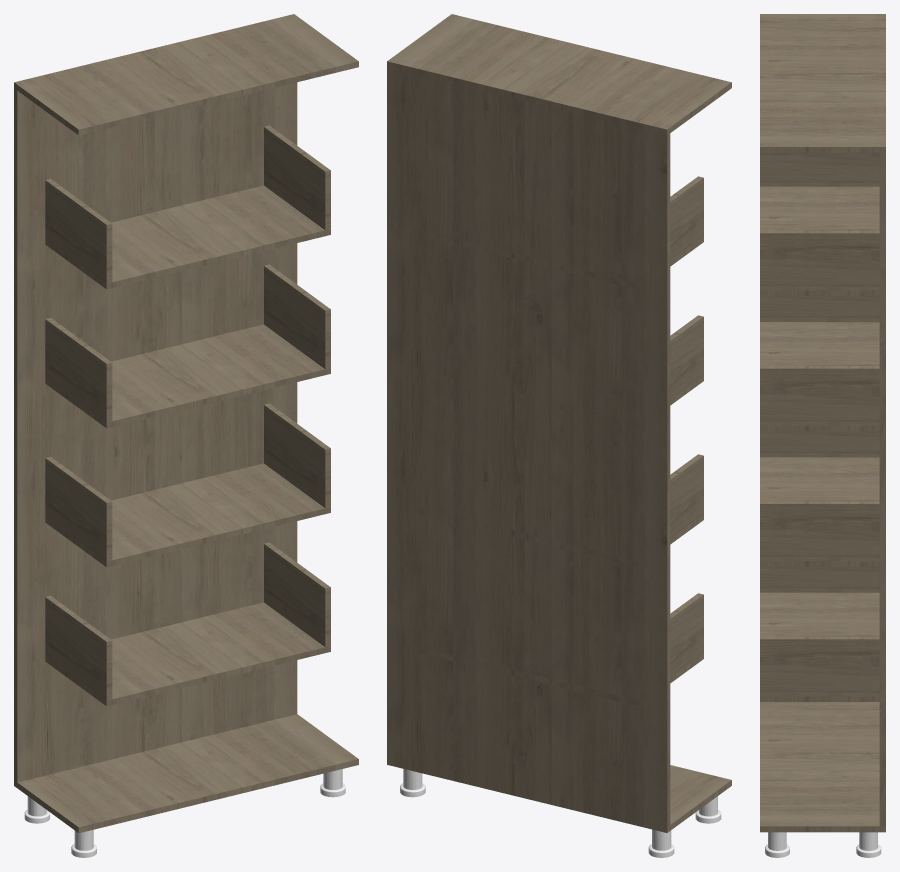
The picture shows the model from 3 angles, left to right: view 1: azimuth 30°, elevation 25°; view 2: azimuth 150°, elevation 25°; view 3: azimuth 270°, elevation 25°; orthographic projection. The views are drawn at different scales.
Visible parts, largest first — view 1: Box045, Box046, Box043, Box047, Box050, Box056, Box053, Box049, Box052, Box058, Box055, Box048 (+3 smaller); view 2: Box045, Box046, Box043, Box052, Box055, Box049, Box058, Box056, Box047, Box050, Box053; view 3: Box046, Box043, Box048, Box057, Box051, Box054, Box047, Box050, Box053, Box056, Box045, Box058 (+5 smaller).
Boxes of the visible parts, bbox=[...] form: Box045: bbox=[14, 82, 297, 782]; Box046: bbox=[14, 14, 358, 135]; Box043: bbox=[14, 714, 358, 833]; Box047: bbox=[45, 602, 330, 706]; Box050: bbox=[45, 463, 330, 567]; Box056: bbox=[45, 185, 330, 289]; Box053: bbox=[45, 324, 330, 428]; Box049: bbox=[45, 595, 112, 700]; Box052: bbox=[45, 456, 112, 561]; Box058: bbox=[45, 178, 112, 283]; Box055: bbox=[45, 317, 112, 422]; Box048: bbox=[264, 542, 330, 647]; Box045: bbox=[387, 67, 670, 826]; Box046: bbox=[387, 14, 731, 135]; Box043: bbox=[387, 759, 731, 832]; Box052: bbox=[670, 454, 703, 538]; Box055: bbox=[670, 315, 703, 399]; Box049: bbox=[670, 593, 703, 677]; Box058: bbox=[670, 176, 703, 260]; Box056: bbox=[415, 229, 703, 289]; Box047: bbox=[415, 646, 703, 706]; Box050: bbox=[415, 507, 703, 567]; Box053: bbox=[415, 368, 703, 428]; Box046: bbox=[760, 14, 885, 152]; Box043: bbox=[760, 702, 885, 832]; Box048: bbox=[760, 636, 879, 696]; Box057: bbox=[760, 230, 879, 290]; Box051: bbox=[760, 501, 879, 560]; Box054: bbox=[760, 366, 879, 425]; Box047: bbox=[760, 592, 879, 701]; Box050: bbox=[760, 457, 879, 566]; Box053: bbox=[760, 322, 879, 431]; Box056: bbox=[760, 186, 879, 295]; Box045: bbox=[879, 152, 885, 826]; Box058: bbox=[760, 152, 879, 186].
Size of the model in its own units: 1 by 2.5 by 0.4.
Materials: 2 (1 with a texture image).
